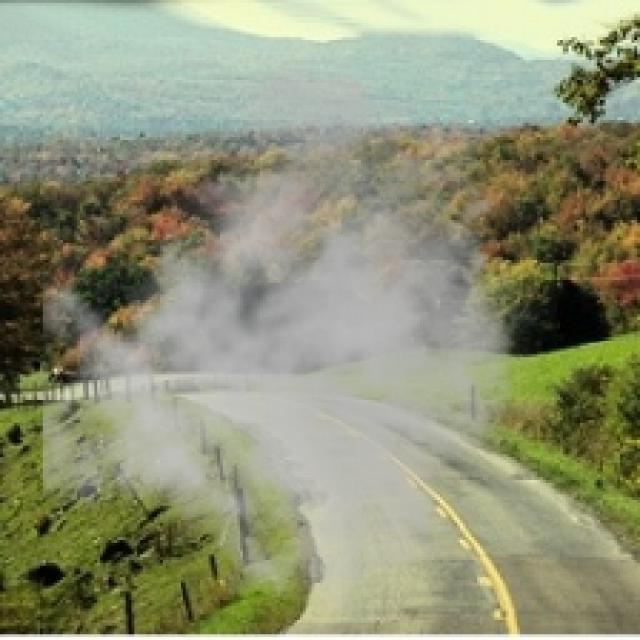Smoke: (43, 65, 563, 618)
